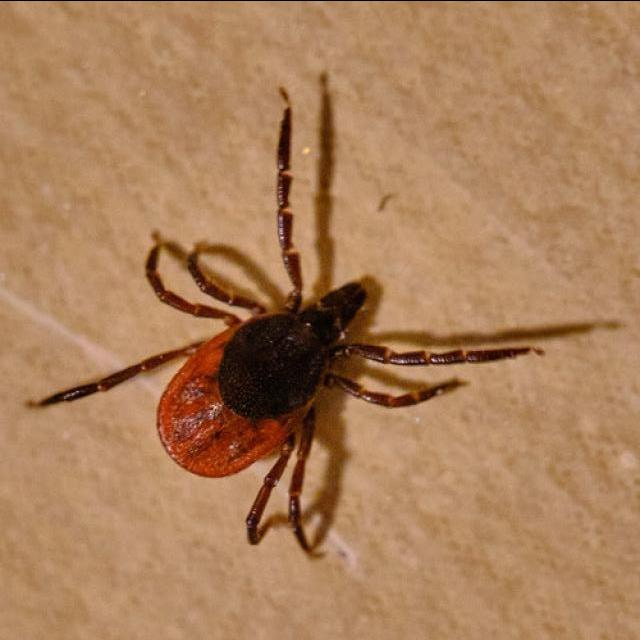Ixodes Ricinus-F: (28, 99, 618, 559)
